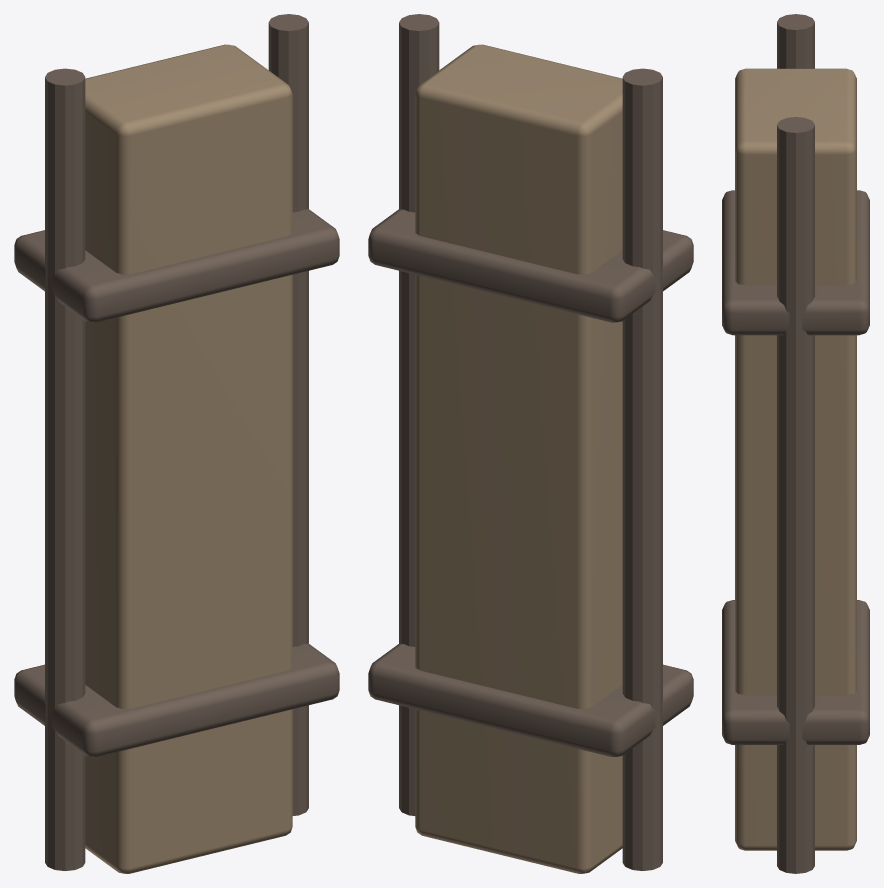
Rendered from PopupShade_Packed.fbx.
3 renders of one model, left to right at view 1: azimuth 30°, elevation 25°; view 2: azimuth 150°, elevation 25°; view 3: azimuth 270°, elevation 25°, orthographic. The views are drawn at different scales.
Visible parts, largest first — view 1: FoldedCanvas, BundledPole, PackingStrap.001, PackingStrap, BundledPole.001; view 2: FoldedCanvas, BundledPole, PackingStrap.001, PackingStrap, BundledPole.001; view 3: FoldedCanvas, BundledPole.001, PackingStrap.001, PackingStrap, BundledPole.
Part boxes in pixels (x1=…): FoldedCanvas: x1=85, y1=44, x2=292, y2=873; BundledPole: x1=45, y1=68, x2=85, y2=870; PackingStrap.001: x1=14, y1=209, x2=339, y2=322; PackingStrap: x1=14, y1=643, x2=339, y2=757; BundledPole.001: x1=268, y1=14, x2=308, y2=815; FoldedCanvas: x1=415, y1=44, x2=622, y2=873; BundledPole: x1=622, y1=68, x2=662, y2=870; PackingStrap.001: x1=368, y1=209, x2=693, y2=322; PackingStrap: x1=368, y1=643, x2=693, y2=757; BundledPole.001: x1=399, y1=14, x2=439, y2=815; FoldedCanvas: x1=735, y1=68, x2=856, y2=850; BundledPole.001: x1=777, y1=117, x2=814, y2=873; PackingStrap.001: x1=722, y1=190, x2=869, y2=335; PackingStrap: x1=722, y1=600, x2=869, y2=744; BundledPole: x1=777, y1=14, x2=814, y2=68.
Size of the model in its own units: 32.4 by 94 by 17.
